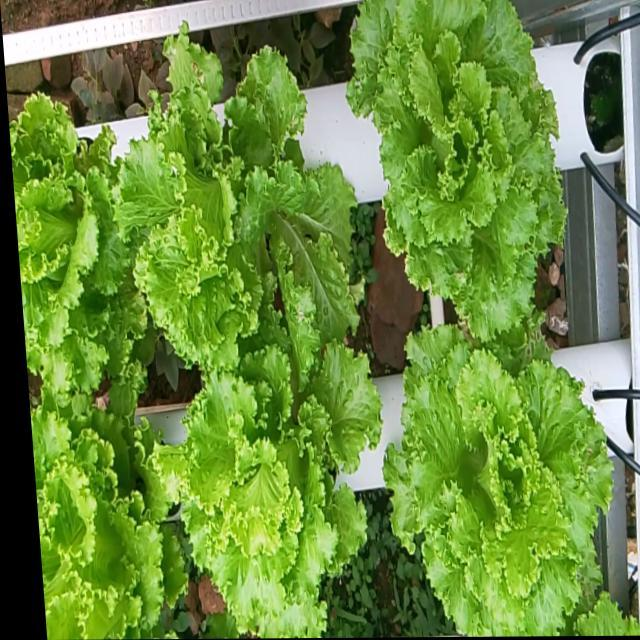Mature: (110, 27, 356, 363), (376, 326, 627, 636), (343, 0, 562, 344), (157, 318, 375, 637), (8, 81, 138, 384), (29, 380, 178, 640)
